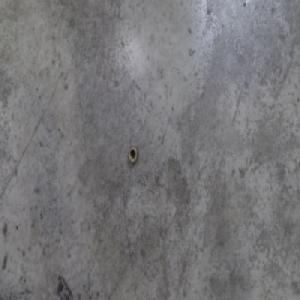Nut: (127, 143, 139, 164)
